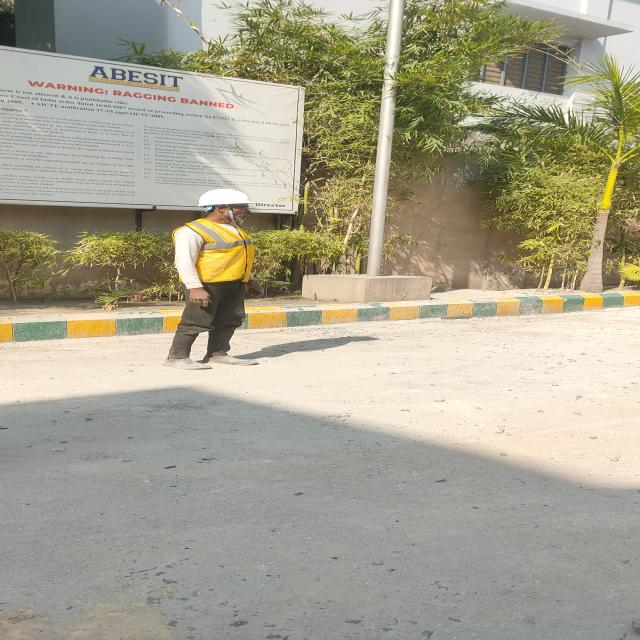safe: (163, 189, 263, 368)
